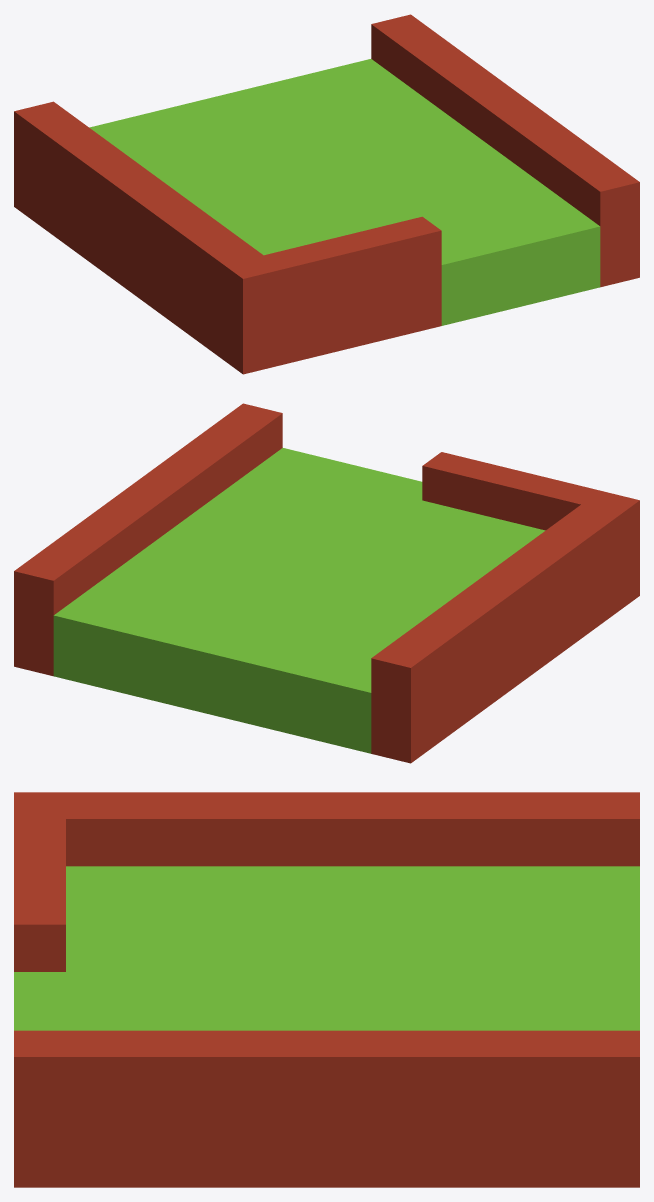
Rendered from Obstacle_Wall_Left.FBX.
The picture shows the model from 3 angles, top to bottom: view 1: azimuth 30°, elevation 25°; view 2: azimuth 150°, elevation 25°; view 3: azimuth 270°, elevation 25°; orthographic projection. The views are drawn at different scales.
Parts seen in each view (by area): view 1: Walls, Wall_left_01; view 2: Wall_left_01, Walls; view 3: Walls, Wall_left_01.
Part boxes in pixels (bbox=[...]): Walls: bbox=[14, 14, 639, 374]; Wall_left_01: bbox=[89, 59, 600, 325]; Wall_left_01: bbox=[53, 448, 545, 753]; Walls: bbox=[14, 403, 639, 763]; Walls: bbox=[14, 792, 639, 1187]; Wall_left_01: bbox=[14, 866, 639, 1030].
Bounding box in the file's own units: 0.9999 × 0.9999 × 0.23.
